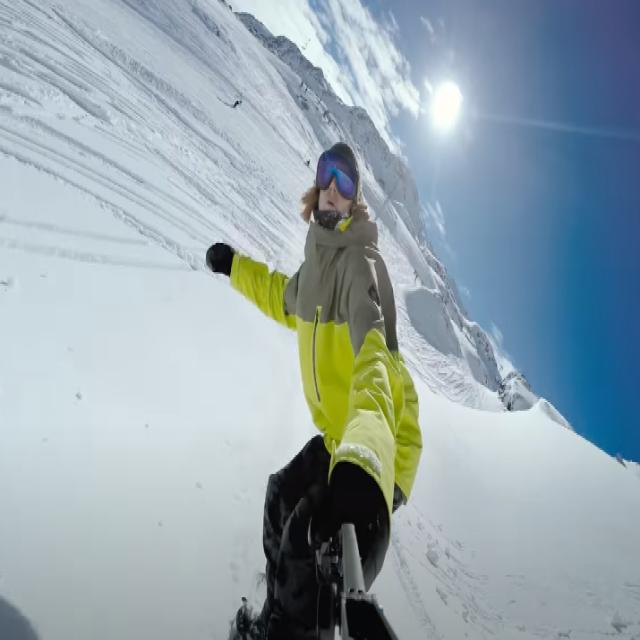hat: (324, 148, 356, 182)
